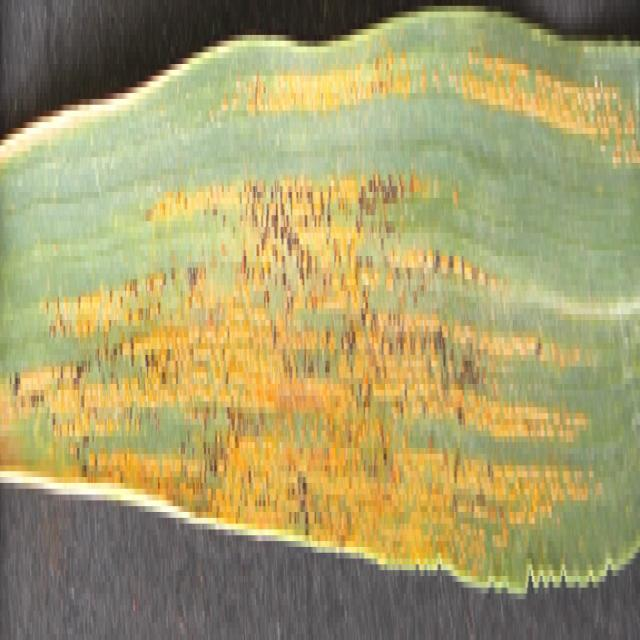leaf rust: (1, 140, 602, 564), (457, 12, 637, 168), (195, 29, 422, 128)
